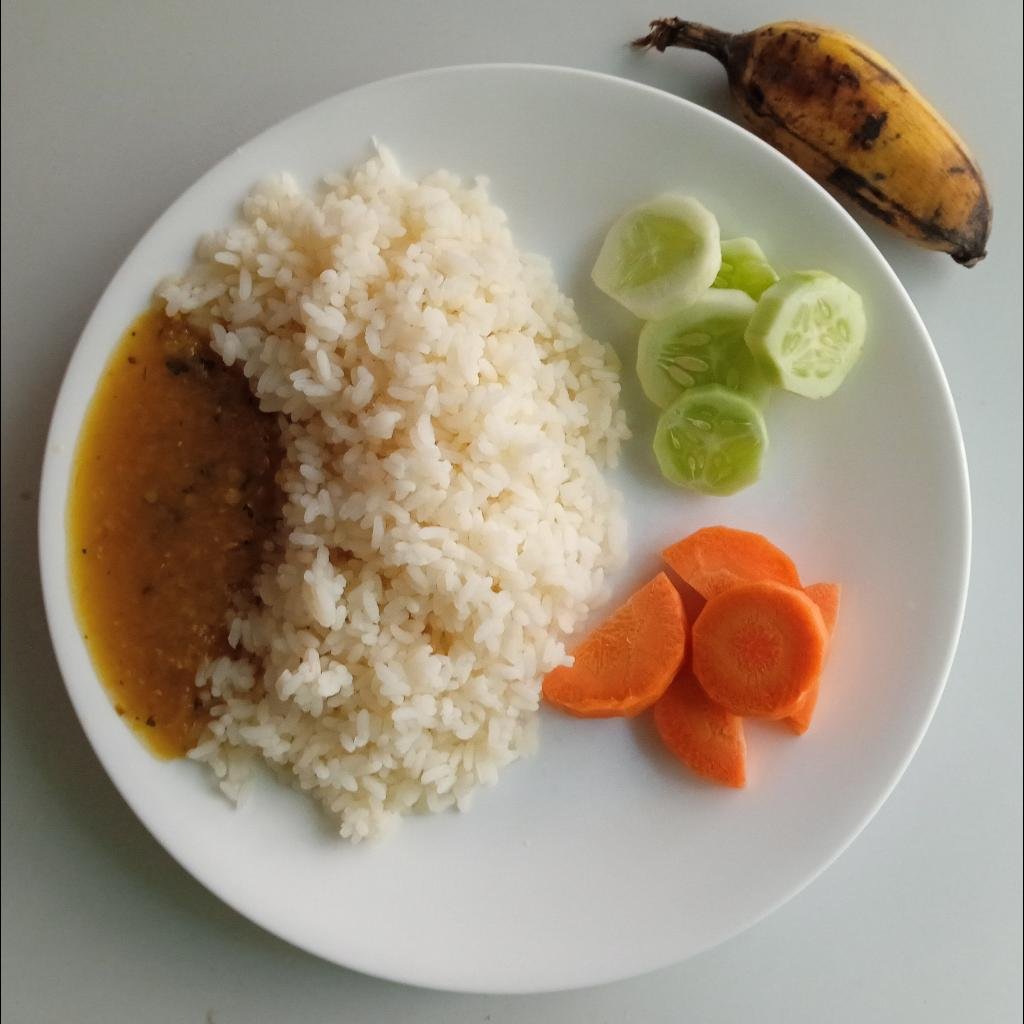banana: (627, 16, 992, 270)
cucumber: (590, 191, 867, 500), (542, 523, 843, 788)
daal: (64, 302, 284, 762)
rice: (165, 157, 631, 844)
